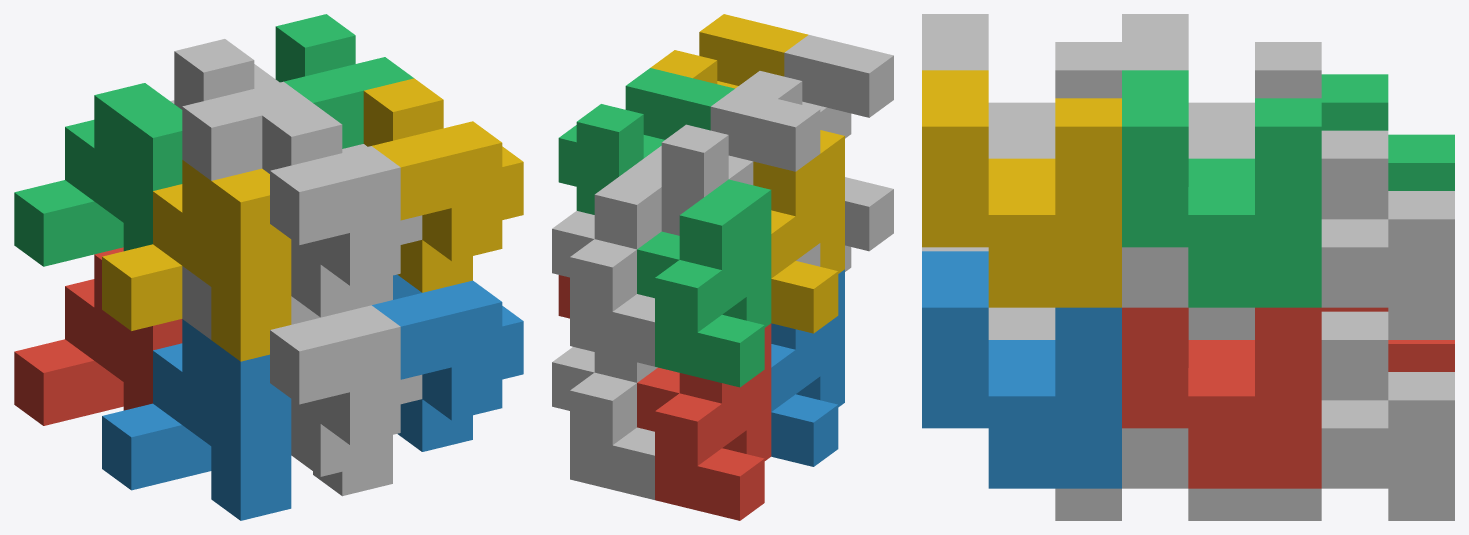
File: tiling.obj
3 views of the same model, side by side, from view 1: azimuth 30°, elevation 25°; view 2: azimuth 150°, elevation 25°; view 3: azimuth 270°, elevation 25° (orthographic). The views are drawn at different scales.
Parts seen in each view (by area): view 1: copy_1_domain_2, copy_1_domain_4, copy_2_domain_4, copy_2_domain_8, copy_1_domain_3, copy_2_domain_2, copy_2_domain_6, copy_1_domain_1, copy_2_domain_3, copy_2_domain_7, copy_1_domain_6, copy_2_domain_1 (+1 smaller); view 2: copy_1_domain_3, copy_1_domain_1, copy_1_domain_7, copy_1_domain_4, copy_2_domain_3, copy_1_domain_5, copy_2_domain_7, copy_1_domain_2, copy_2_domain_4, copy_2_domain_8, copy_2_domain_2, copy_2_domain_5; view 3: copy_2_domain_7, copy_2_domain_8, copy_2_domain_6, copy_2_domain_5, copy_1_domain_5, copy_1_domain_7, copy_2_domain_4, copy_2_domain_3, copy_1_domain_6, copy_1_domain_3, copy_1_domain_8, copy_2_domain_2 (+1 smaller).
Part boxes in pixels (x1,y1,x2,y2): copy_1_domain_2: [102, 319, 291, 520]; copy_1_domain_4: [102, 160, 291, 361]; copy_2_domain_4: [262, 103, 422, 317]; copy_2_domain_8: [363, 78, 523, 292]; copy_1_domain_3: [14, 83, 182, 266]; copy_2_domain_2: [270, 296, 422, 476]; copy_2_domain_6: [372, 274, 523, 451]; copy_1_domain_1: [14, 247, 182, 425]; copy_2_domain_3: [174, 39, 312, 180]; copy_2_domain_7: [275, 14, 413, 148]; copy_1_domain_6: [313, 435, 392, 496]; copy_2_domain_1: [182, 266, 211, 339]; copy_1_domain_3: [637, 179, 771, 387]; copy_1_domain_1: [637, 323, 771, 520]; copy_1_domain_7: [552, 158, 661, 366]; copy_1_domain_4: [753, 130, 844, 333]; copy_2_domain_3: [644, 88, 820, 235]; copy_1_domain_5: [552, 347, 657, 499]; copy_2_domain_7: [558, 68, 734, 214]; copy_1_domain_2: [771, 269, 844, 466]; copy_2_domain_4: [735, 35, 893, 138]; copy_2_domain_8: [650, 14, 808, 88]; copy_2_domain_2: [845, 177, 893, 271]; copy_2_domain_5: [558, 275, 569, 318]; copy_2_domain_7: [1122, 70, 1321, 307]; copy_2_domain_8: [922, 70, 1121, 307]; copy_2_domain_6: [922, 251, 1121, 488]; copy_2_domain_5: [1122, 307, 1321, 488]; copy_1_domain_5: [1255, 311, 1454, 520]; copy_1_domain_7: [1321, 130, 1454, 339]; copy_2_domain_4: [922, 14, 1121, 158]; copy_2_domain_3: [1122, 14, 1321, 158]; copy_1_domain_6: [1055, 428, 1254, 520]; copy_1_domain_3: [1321, 74, 1454, 190]; copy_1_domain_8: [1122, 247, 1254, 339]; copy_2_domain_2: [922, 247, 1055, 339].
Size of the model in its own units: 6 by 7 by 8.
